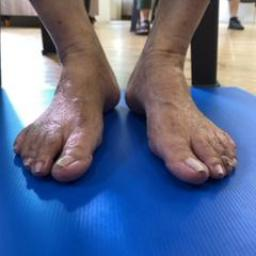Front View -Both Feet-: (2, 21, 250, 205)
